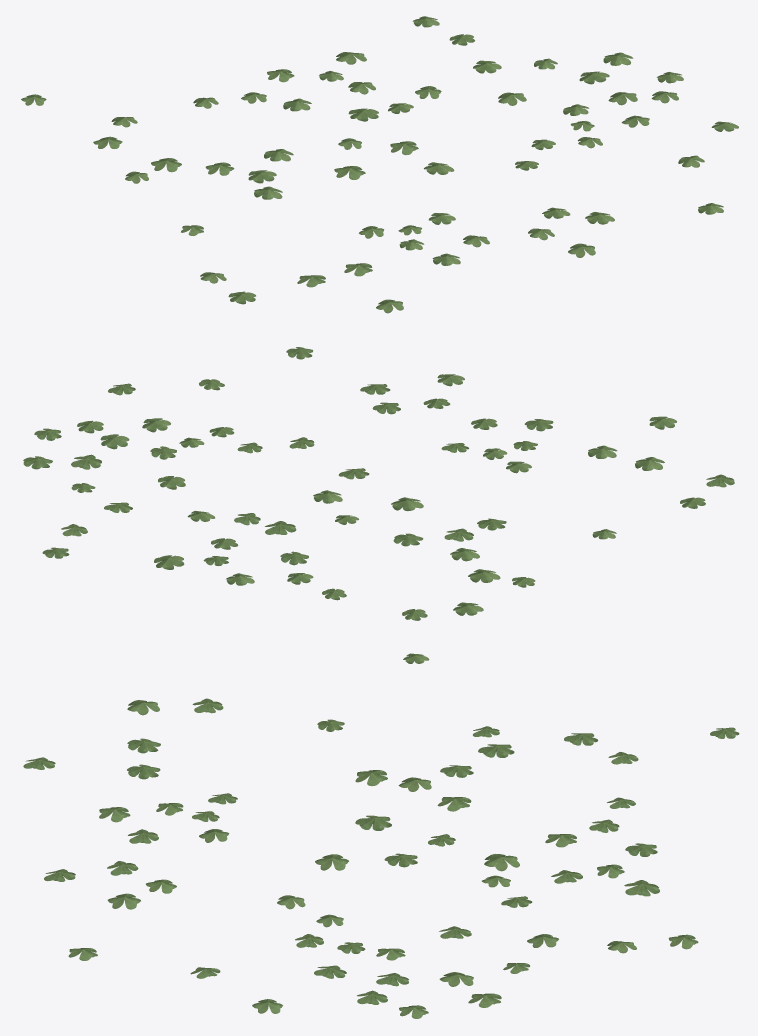
Rendered from PW_Plant_Acid_Clover.FBX.
The picture shows the model from 3 angles, top to bottom: view 1: azimuth 30°, elevation 25°; view 2: azimuth 150°, elevation 25°; view 3: azimuth 270°, elevation 25°; orthographic projection. The views are drawn at different scales.
Visible parts, largest first — view 1: PW_Plant_Acid_Clover_LOD0; view 2: PW_Plant_Acid_Clover_LOD0; view 3: PW_Plant_Acid_Clover_LOD0.
Boxes of the visible parts, x1=… form: PW_Plant_Acid_Clover_LOD0: x1=21, y1=16, x2=738, y2=313; PW_Plant_Acid_Clover_LOD0: x1=23, y1=347, x2=734, y2=663; PW_Plant_Acid_Clover_LOD0: x1=23, y1=698, x2=739, y2=1018.
Size of what is drawn, in the model's own units: 185 by 2.2 by 176.
